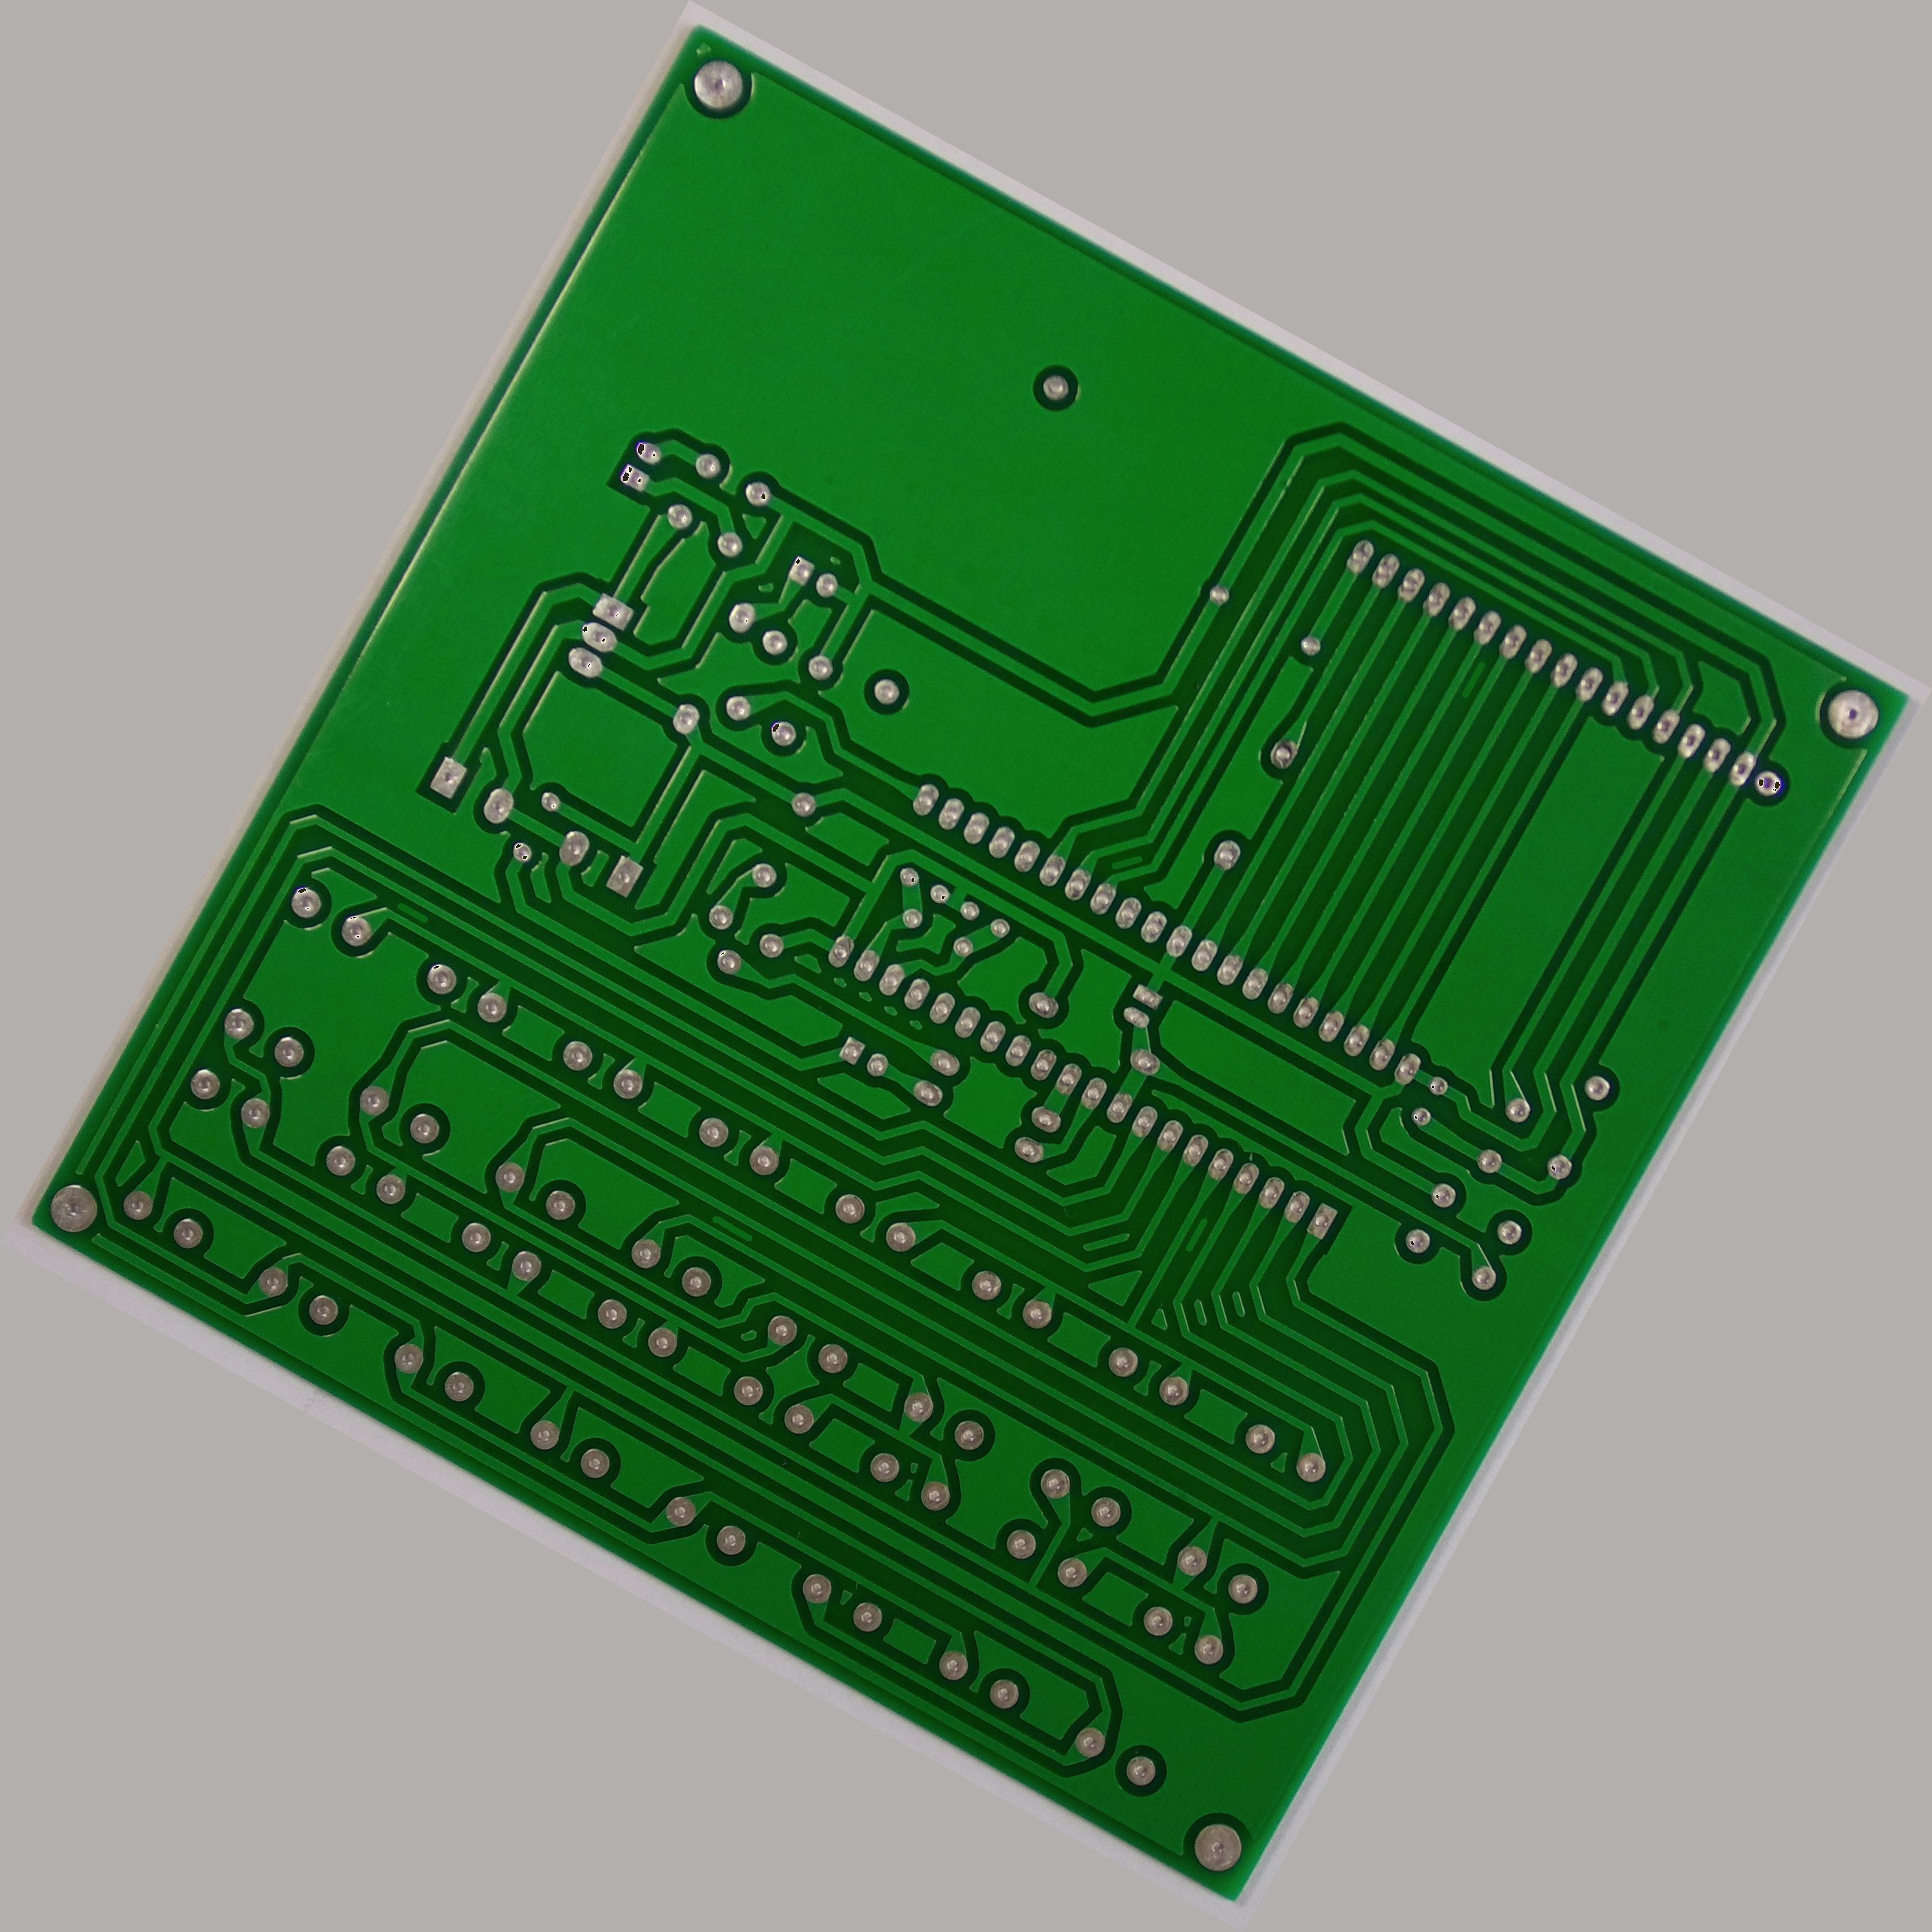spurious_copper: (1445, 648, 1497, 708), (701, 1205, 759, 1253), (382, 886, 439, 934), (1175, 1208, 1215, 1261), (1104, 839, 1150, 885)
